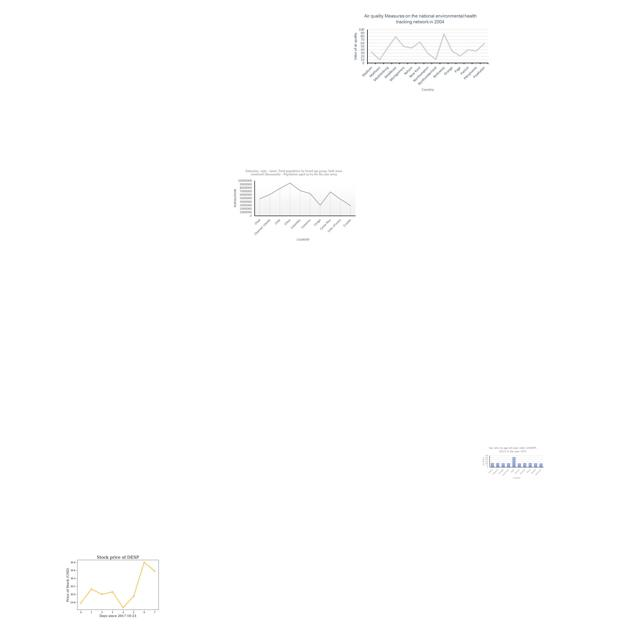Graph: (350, 12, 491, 93), (232, 167, 358, 242), (64, 545, 169, 624), (480, 445, 545, 480)
